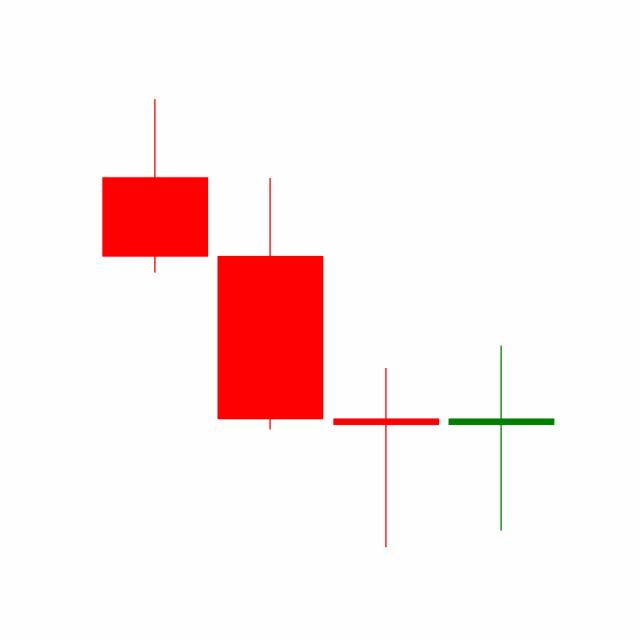Spinning Top: (443, 342, 559, 532)
